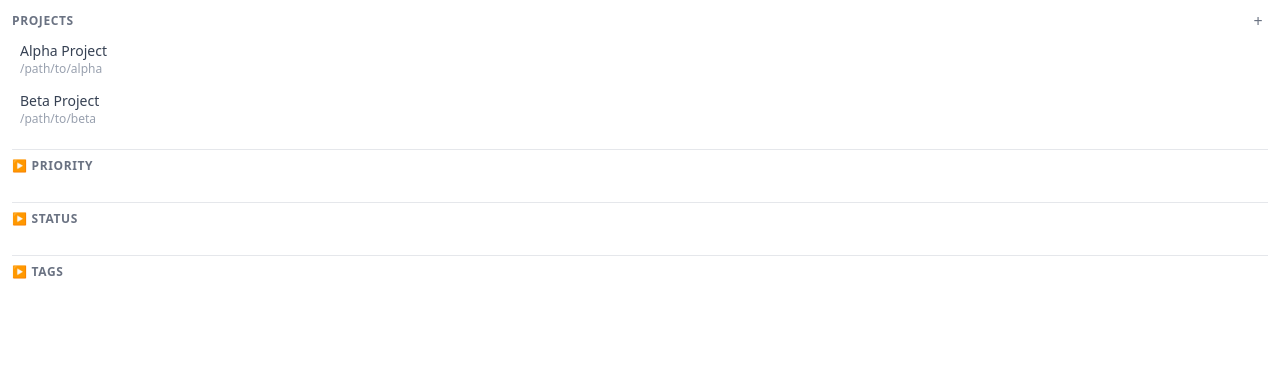
Sidebar › shows Tags section when tags exist
The width and height of the screenshot is (1280, 367).
Click the button "▶ Tags": {"x": 38, "y": 272} [12,264,64,280]
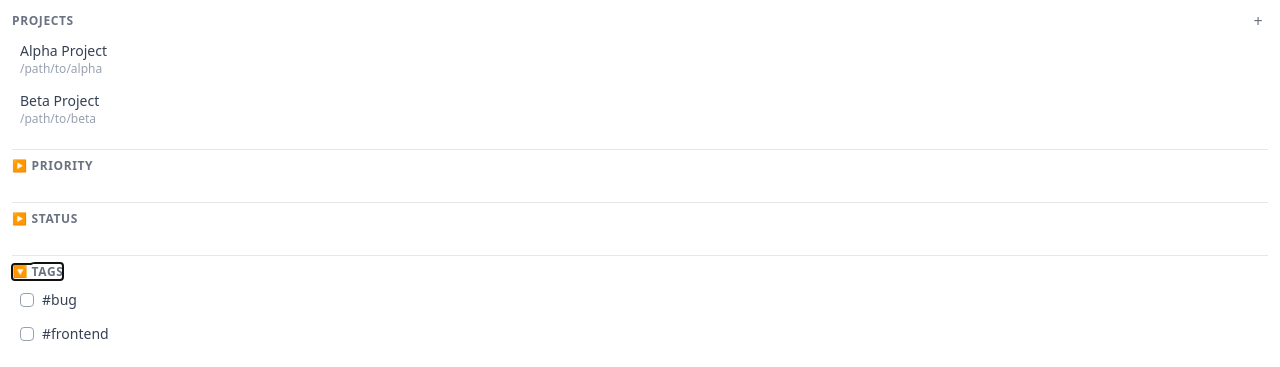
Now the button "#bug" is shown, box [12,284,1268,316]
Now the button "#frontend" is shown, box [12,318,1268,350]
